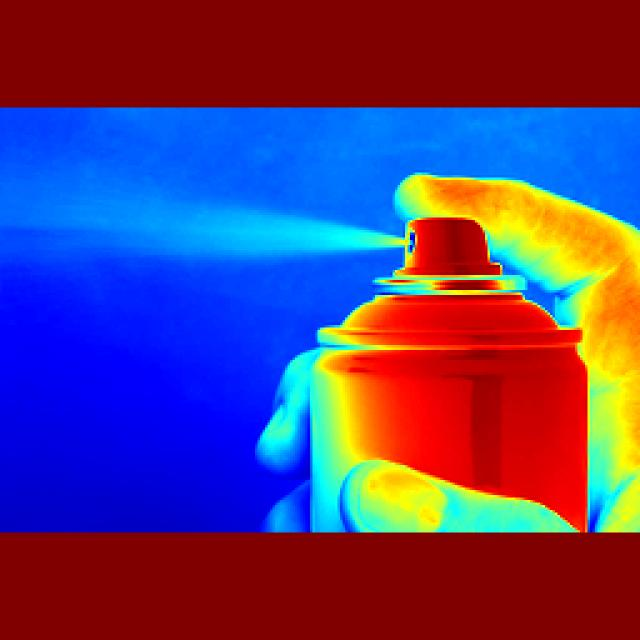Aerosol Cans: (314, 201, 593, 536)
